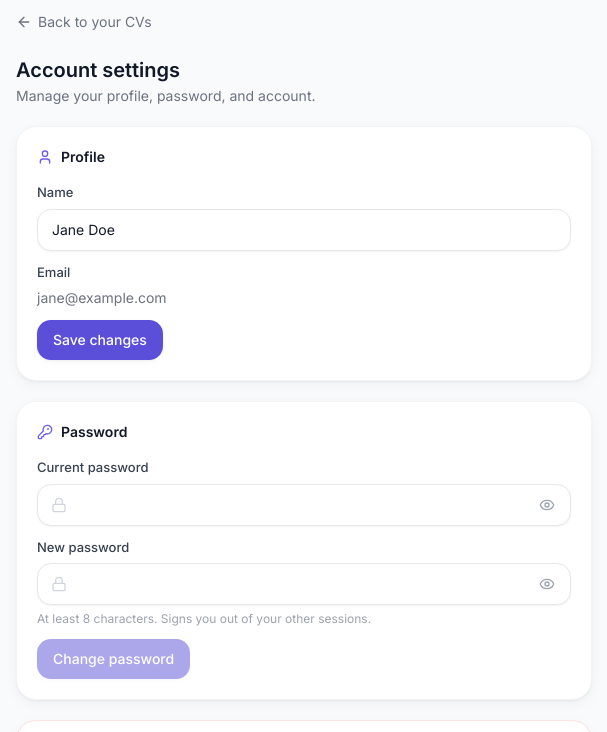
Test: AccountSettingsPage › password › changes the password, clears the fields, and shows a confirmation
Step 1. Type "oldpass123" into the password field labelled "Current password" → (304, 504), box [37,484,571,526]
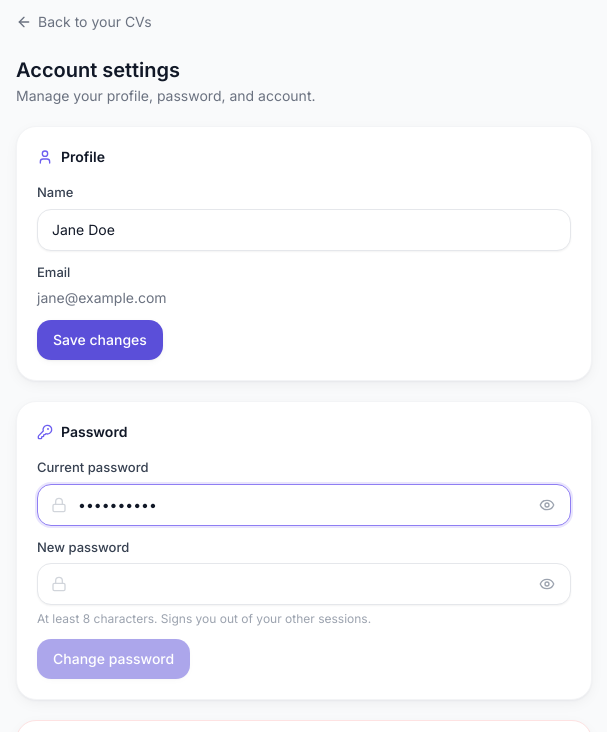
Step 2. Type "newpass123" into the password field labelled "New password" → (304, 584), box [37,563,571,605]
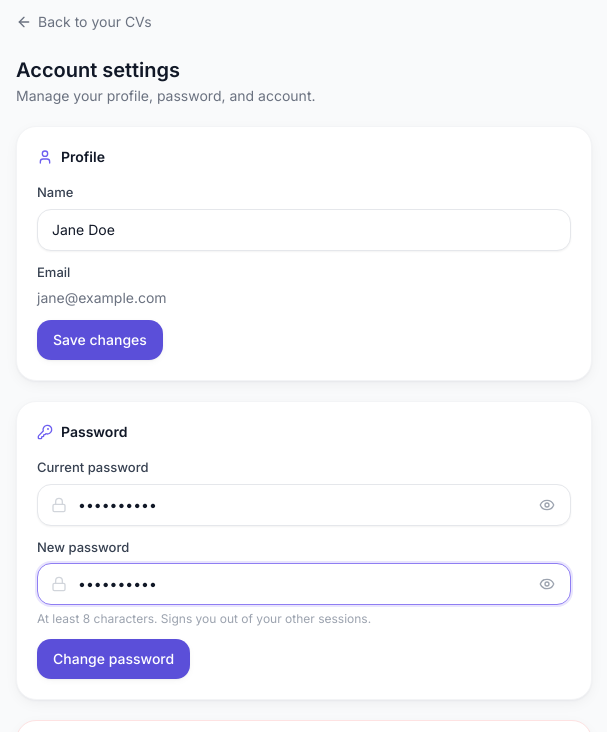
Step 3. Click the button "Change password" → (114, 659), box [37,639,190,679]
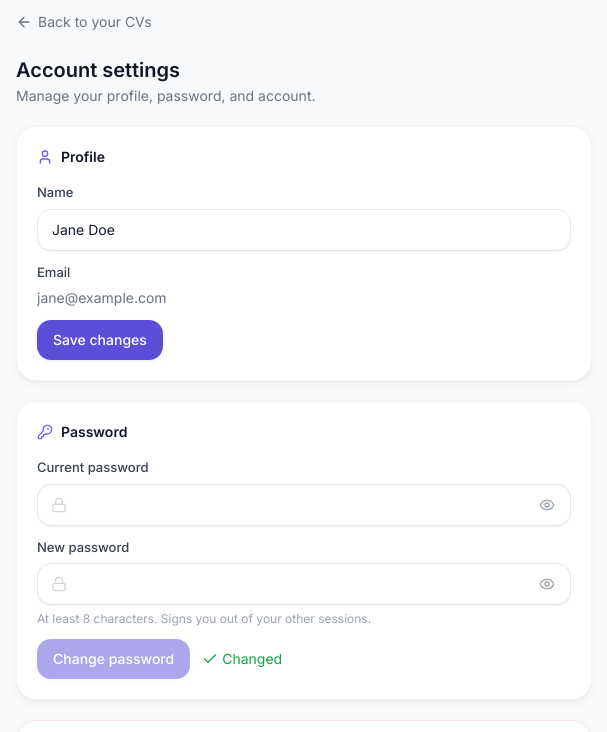
Check: the text "Changed" is shown, box [202,649,282,669]
Check: the password field labelled "Current password" is empty, box [37,484,571,526]
Check: the password field labelled "New password" is empty, box [37,563,571,605]
